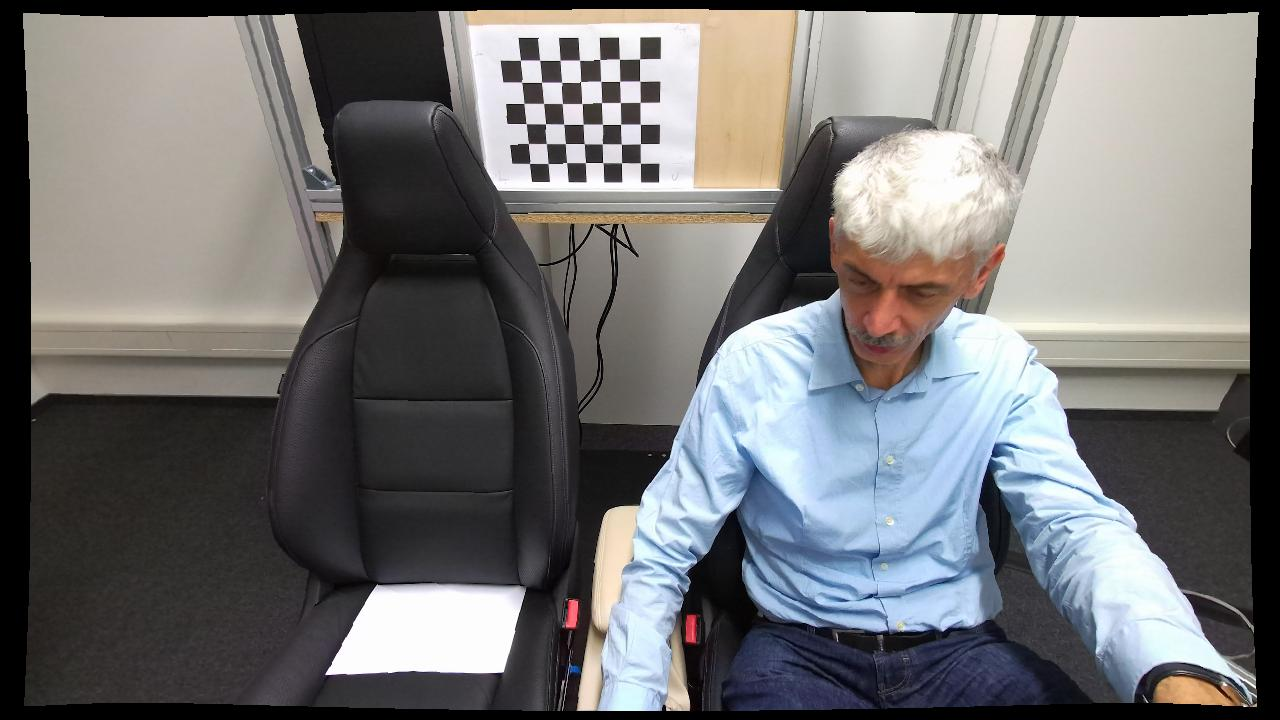Distracted: (598, 122, 1108, 713)
